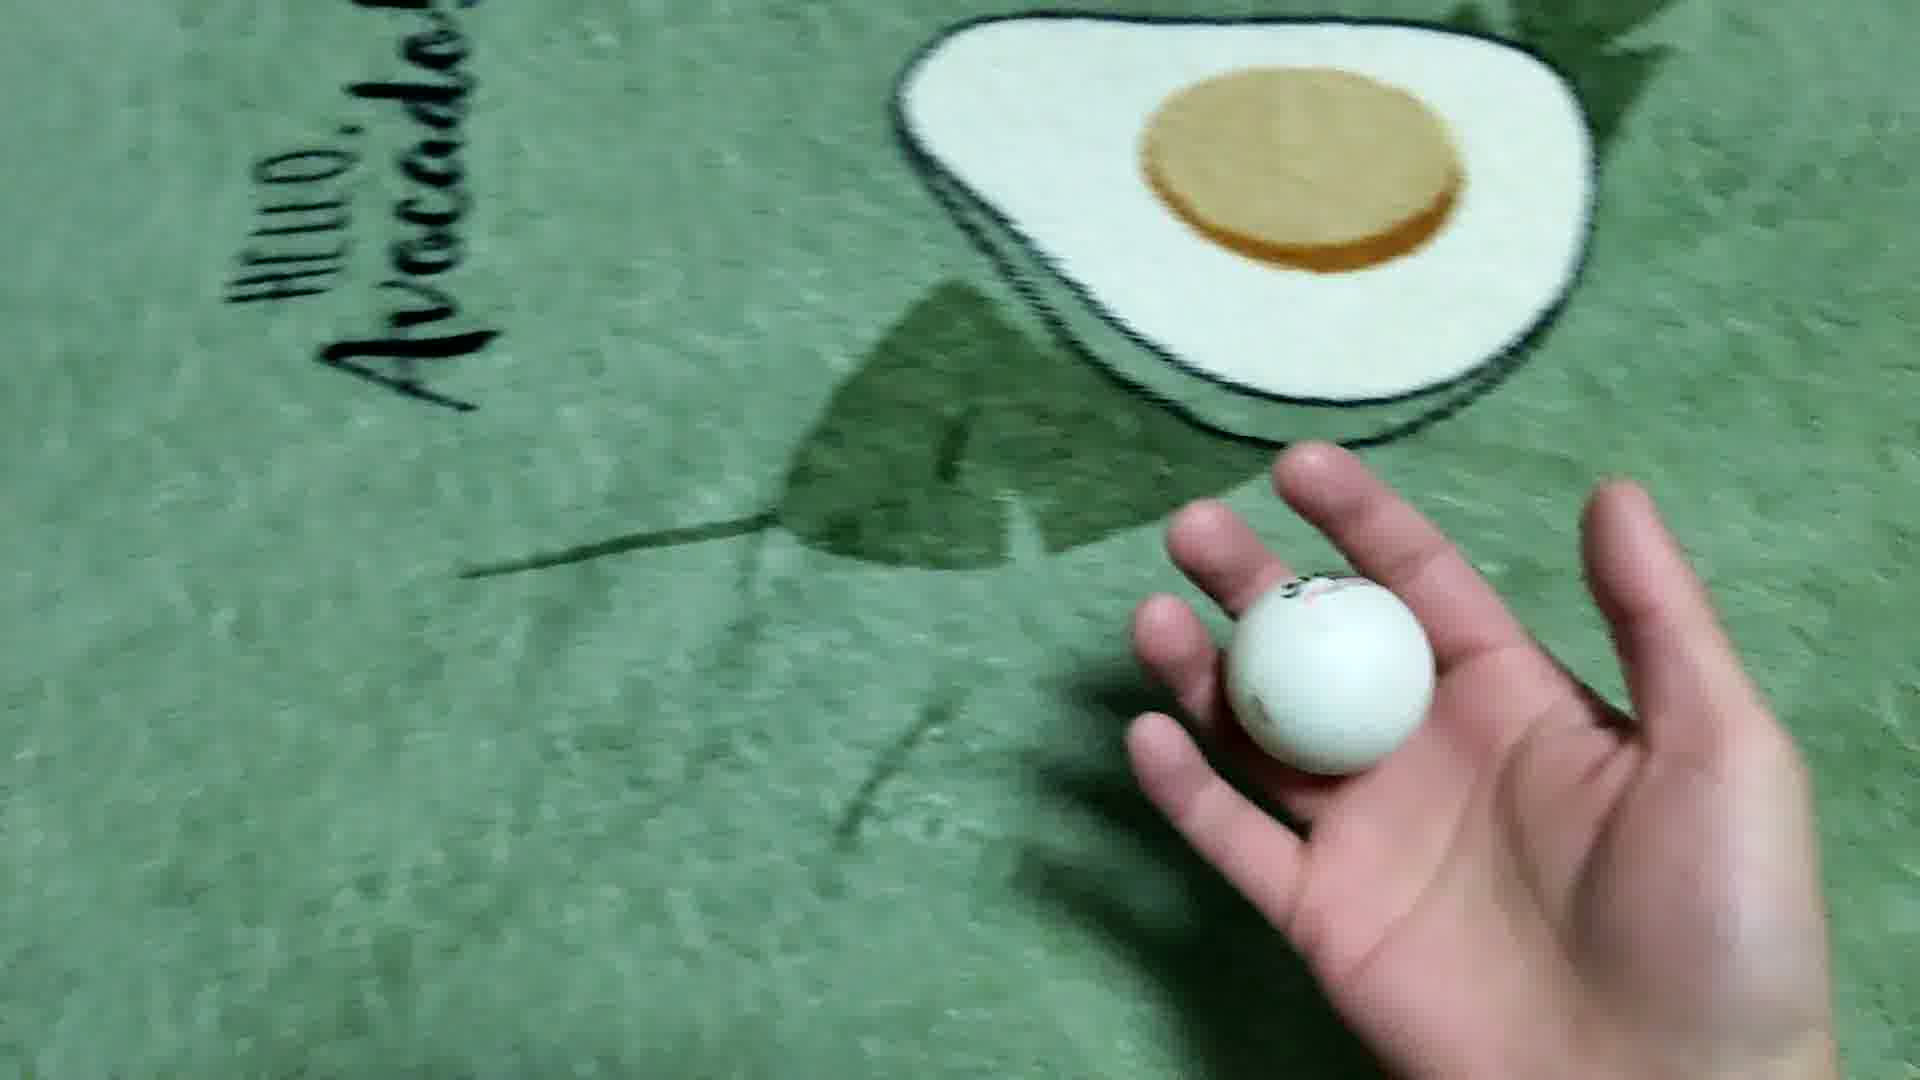Ball: (1225, 571, 1443, 777)
